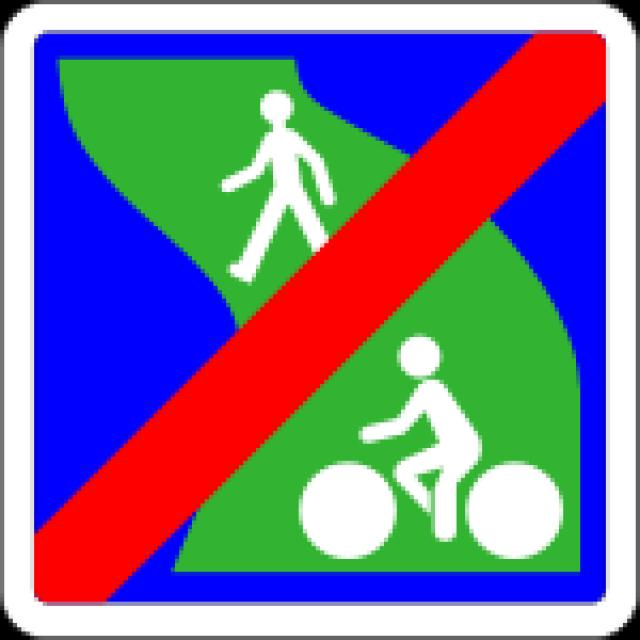indication: (4, 0, 636, 640)
